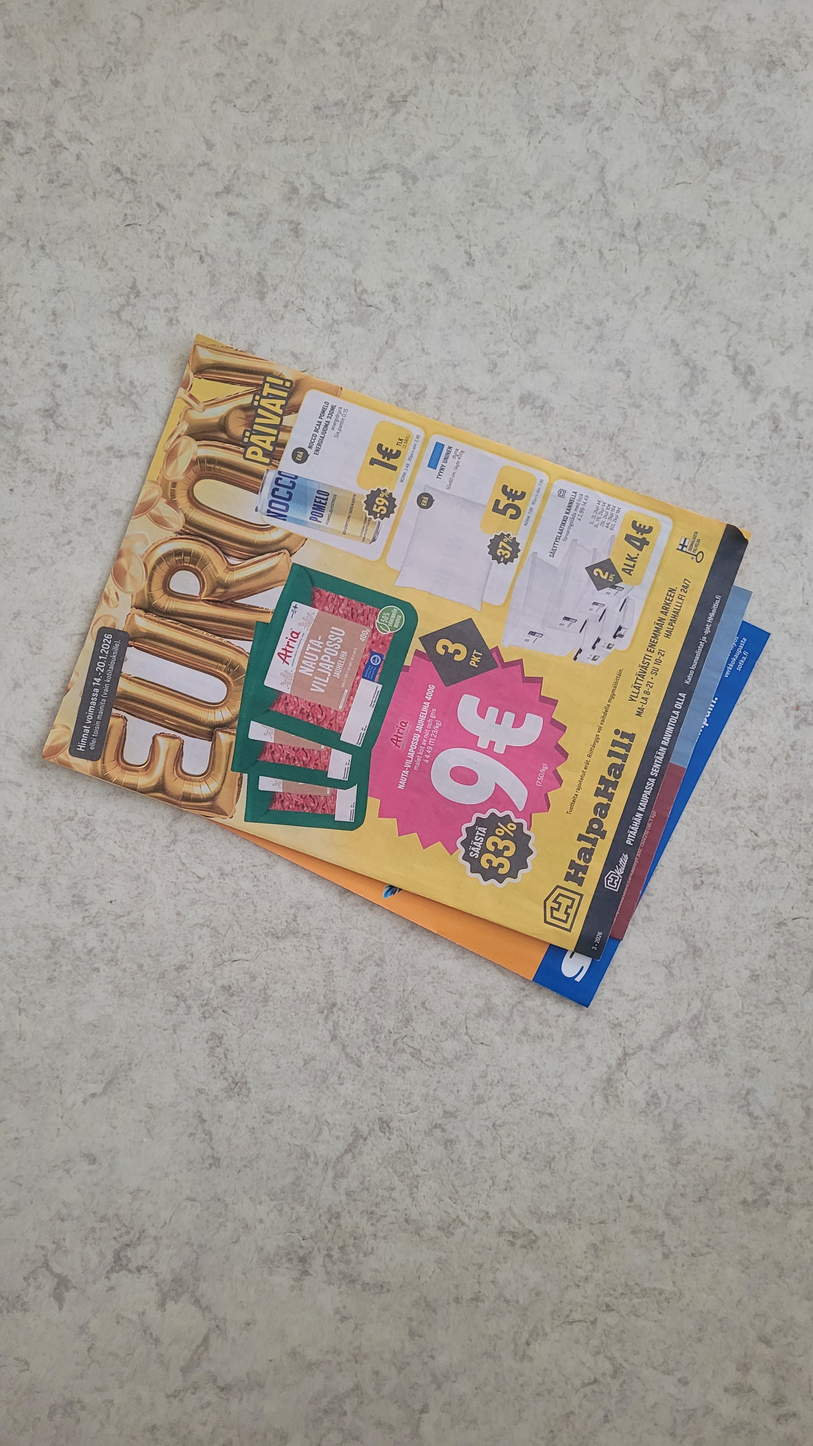paper: (30, 336, 777, 1021)
